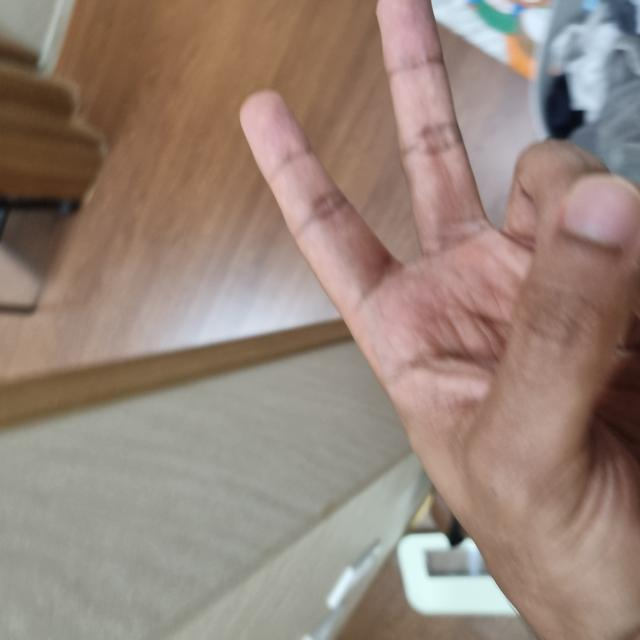Scissors: (0, 244, 633, 639)
